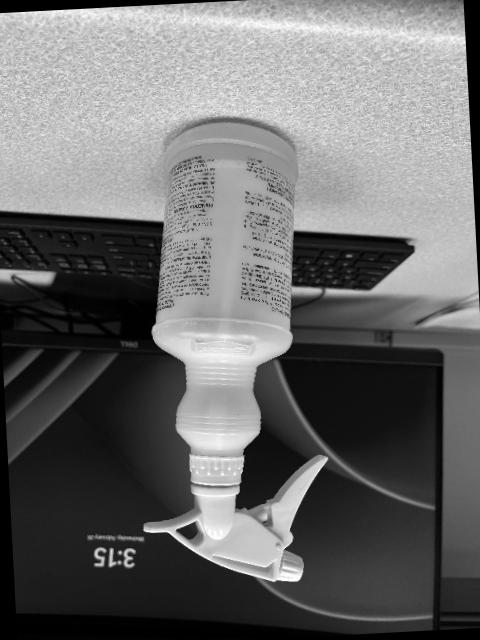StarSpray: (142, 115, 328, 580)
